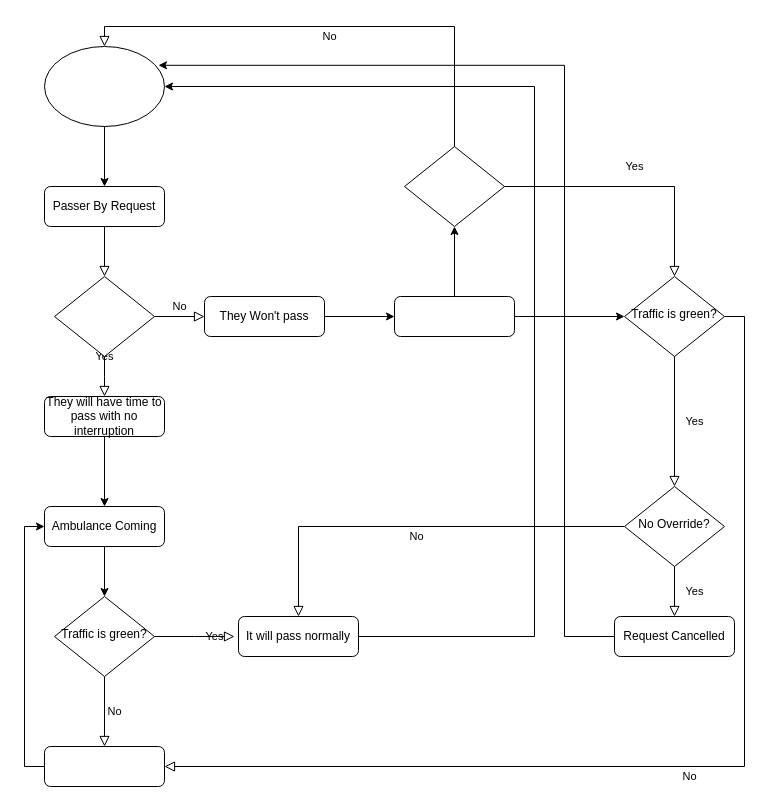
This 772x805 diagram has some shape labels left out. Here are the shapes that lost their labels. From the top down, the centre of each, then its label:
At (104,86): "Start".
At (454,186): "Correct Password?".
At (104,316): "All TFs Red?".
At (454,316): "Admission Request".
At (104,766): "All Other traffics time will be reduced significantly".
